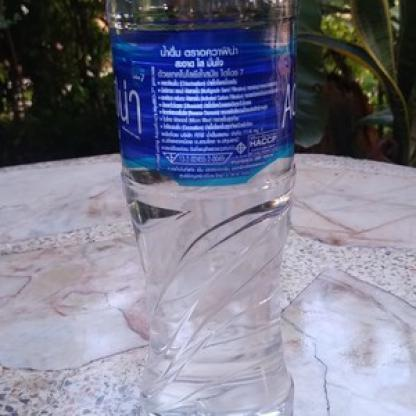bottle: (108, 0, 295, 415)
